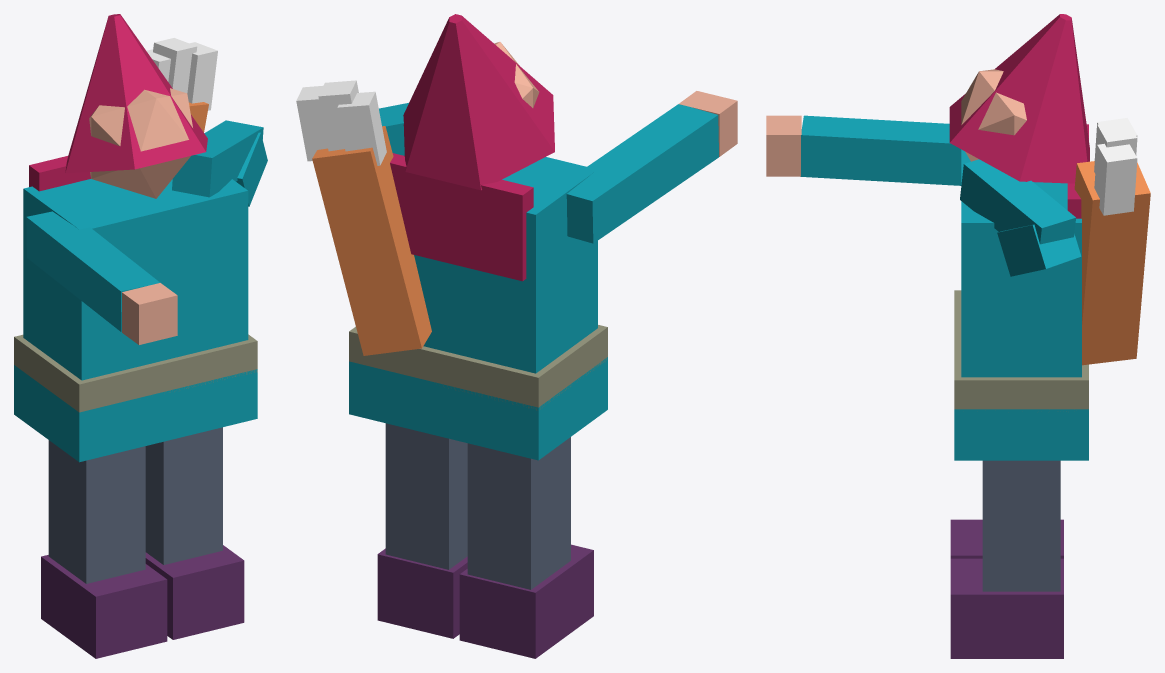
The model's file is archer.glb.
The picture shows the model from 3 angles, left to right: view 1: azimuth 30°, elevation 25°; view 2: azimuth 150°, elevation 25°; view 3: azimuth 270°, elevation 25°; orthographic projection. The views are drawn at different scales.
Parts seen in each view (by area): view 1: Tunic, Skirt, LegL, LegR, Hood, BootL, Belt, ArmL, BootR, Head, ForeR, HandL (+5 smaller); view 2: Tunic, Hood, Quiver, Skirt, LegL, Cape, ArmL, LegR, BootL, Belt, BootR, Fl2 (+5 smaller); view 3: Tunic, Hood, Quiver, LegR, ArmL, BootR, Skirt, ForeR, Belt, Fl1, ArmR, Head (+3 smaller).
Boxes of the visible parts, <box> form: Tunic: <box>23,179,248,380</box>; Skirt: <box>14,365,257,462</box>; LegL: <box>48,440,145,583</box>; LegR: <box>145,427,222,564</box>; Hood: <box>65,14,207,173</box>; BootL: <box>41,555,167,658</box>; Belt: <box>14,334,257,412</box>; ArmL: <box>26,211,159,332</box>; BootR: <box>145,545,244,639</box>; Head: <box>89,88,192,198</box>; ForeR: <box>172,120,263,197</box>; HandL: <box>122,283,177,344</box>; Tunic: <box>414,157,597,373</box>; Hood: <box>403,14,554,190</box>; Quiver: <box>312,126,431,355</box>; Skirt: <box>349,357,607,460</box>; LegL: <box>467,437,570,589</box>; Cape: <box>390,153,533,281</box>; ArmL: <box>566,104,718,243</box>; LegR: <box>385,423,467,569</box>; BootL: <box>459,544,593,658</box>; Belt: <box>349,325,607,410</box>; BootR: <box>377,548,467,638</box>; Fl2: <box>337,91,386,165</box>; Tunic: <box>961,149,1081,377</box>; Hood: <box>949,14,1089,183</box>; Quiver: <box>1074,161,1150,365</box>; LegR: <box>982,460,1060,591</box>; ArmL: <box>800,115,961,185</box>; BootR: <box>950,558,1063,658</box>; Skirt: <box>954,409,1088,460</box>; ForeR: <box>960,159,1075,244</box>; Belt: <box>954,290,1088,411</box>; Fl1: <box>1094,143,1137,215</box>; ArmR: <box>997,224,1081,276</box>; Head: <box>961,69,1026,161</box>.
Size of the model in its own units: 0.8894 by 1.89 by 1.08.
